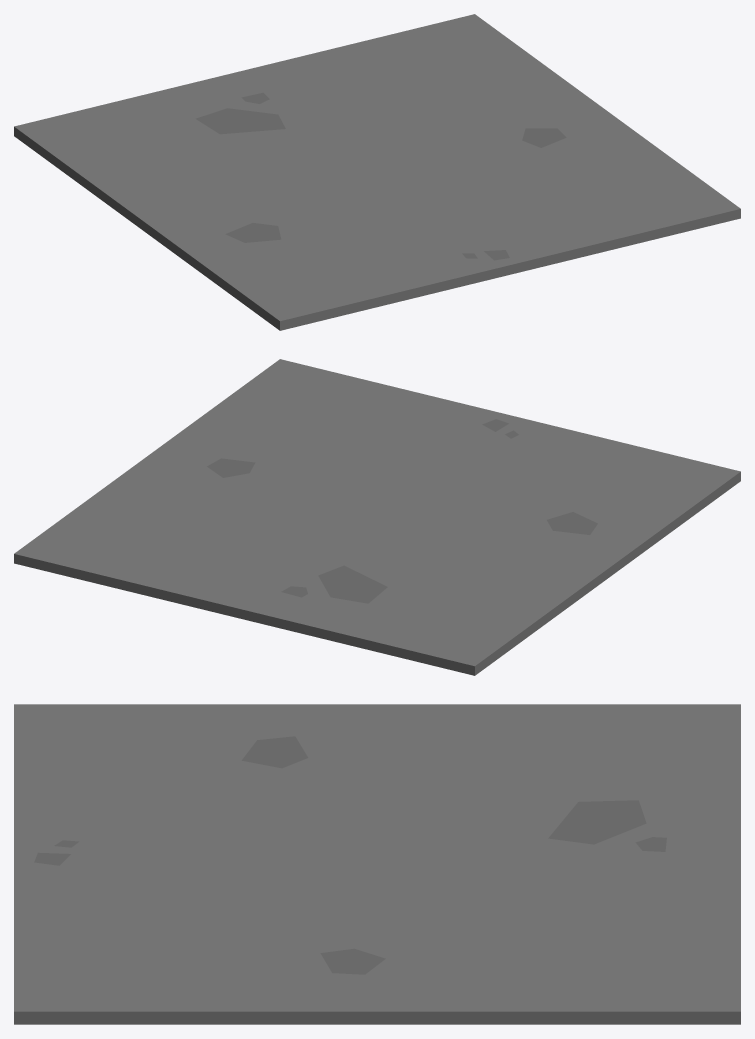
File: Floor_09.fbx
The picture shows the model from 3 angles, top to bottom: view 1: azimuth 30°, elevation 25°; view 2: azimuth 150°, elevation 25°; view 3: azimuth 270°, elevation 25°; orthographic projection. The views are drawn at different scales.
Parts seen in each view (by area): view 1: Floor_09; view 2: Floor_09; view 3: Floor_09.
Boxes of the visible parts, left/top/right/bottom form: Floor_09: left=14, top=14, right=740, bottom=330; Floor_09: left=14, top=359, right=740, bottom=675; Floor_09: left=14, top=704, right=740, bottom=1024.
Bounding box in the file's own units: 500 × 10 × 500.
